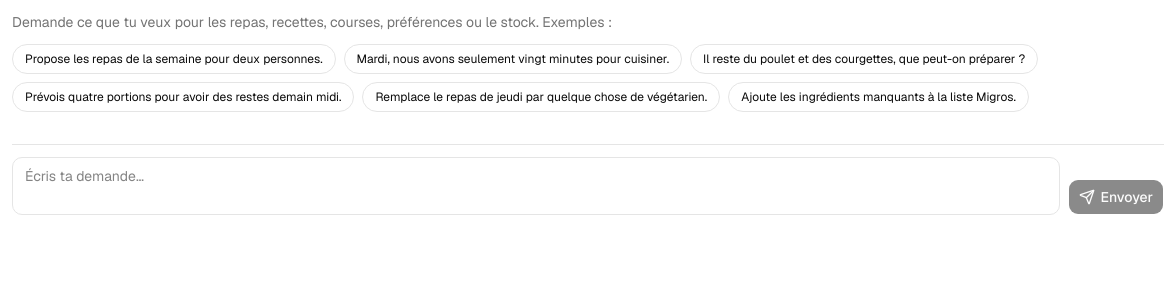
Scenario: Chat › shows the reply and the saved actions journal
Type "Propose un menu" into the text box named "Message pour l'assistant" at (536, 186), box left=12, top=157, right=1060, bottom=215
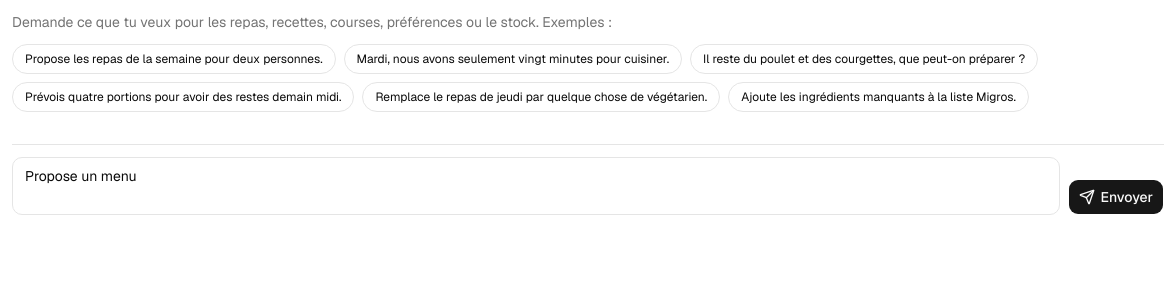
Click the button "Envoyer" at (1116, 197), box left=1068, top=179, right=1164, bottom=215
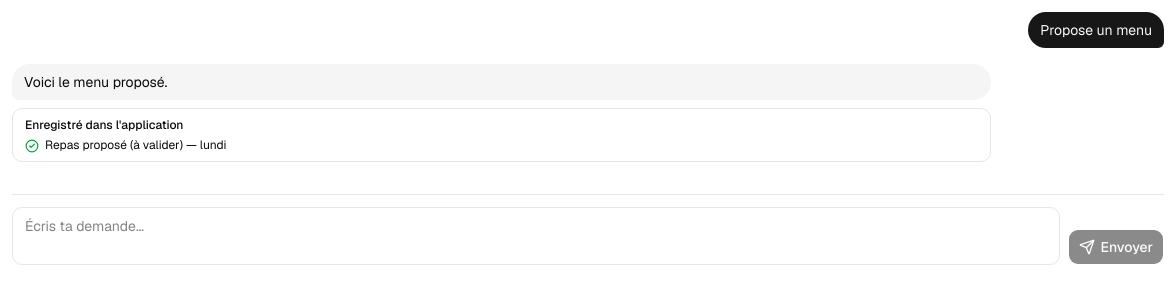
Now the text "Voici le menu proposé." is shown, box left=12, top=64, right=991, bottom=100
Now the text "Propose un menu" is shown, box left=1028, top=12, right=1164, bottom=48
Now the text "Enregistré dans l'application" is shown, box left=25, top=117, right=183, bottom=133
